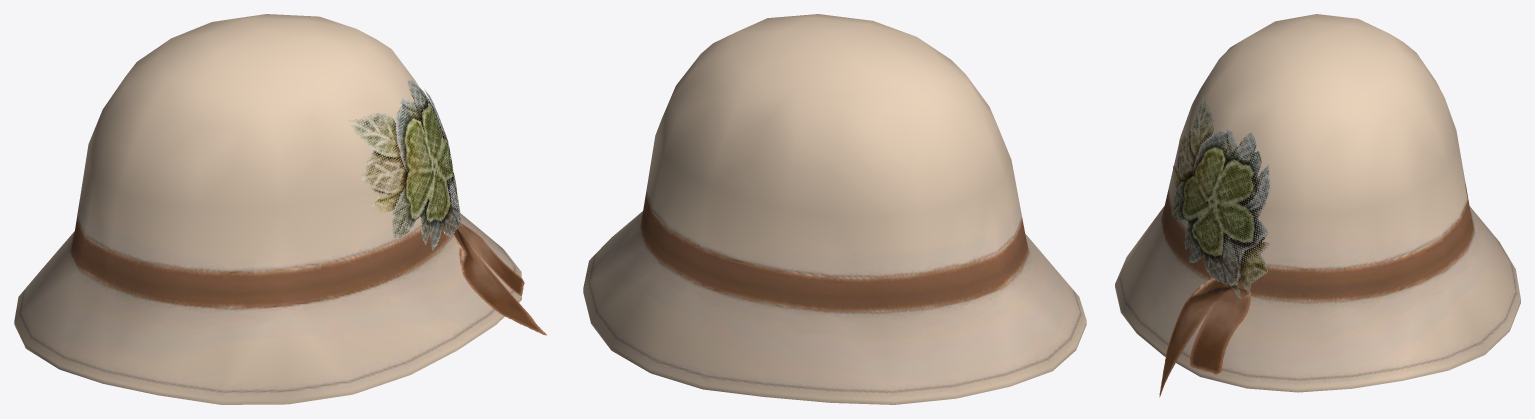
The model's file is Angelina Choche Hat.dae.
3 renders of one model, left to right at view 1: azimuth 30°, elevation 25°; view 2: azimuth 150°, elevation 25°; view 3: azimuth 270°, elevation 25°, orthographic. The views are drawn at different scales.
Visible parts, largest first — view 1: Mesh_0.007; view 2: Mesh_0.007; view 3: Mesh_0.007.
Part boxes in pixels (x1,y1,x2,y2): Mesh_0.007: (14, 14, 546, 404); Mesh_0.007: (583, 14, 1086, 404); Mesh_0.007: (1115, 14, 1520, 397).
Size of the model in its own units: 7.97 by 6.61 by 4.94.
1 material, 1 textured.
